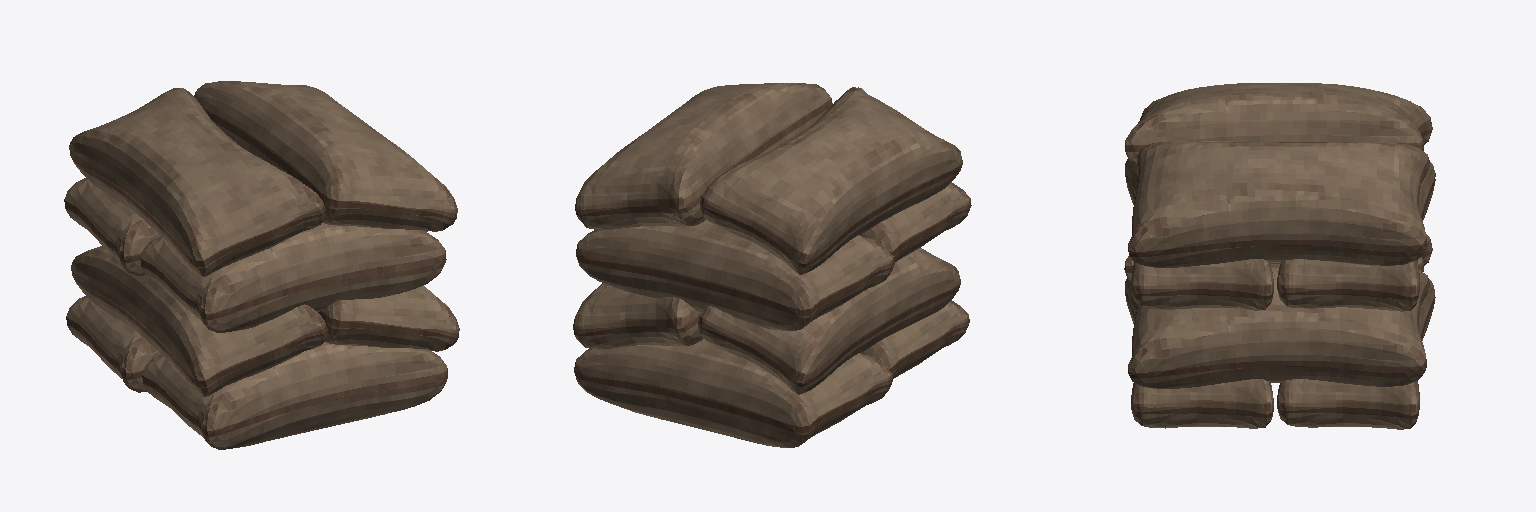
3 views of the same model, side by side, from view 1: azimuth 30°, elevation 25°; view 2: azimuth 150°, elevation 25°; view 3: azimuth 270°, elevation 25° (orthographic).
Parts seen in each view (by area): view 1: bag.006_defaultMaterial.021; view 2: bag.006_defaultMaterial.021; view 3: bag.006_defaultMaterial.021.
Part boxes in pixels (x1,y1,x2,y2): bag.006_defaultMaterial.021: (64,81,459,449); bag.006_defaultMaterial.021: (573,83,971,447); bag.006_defaultMaterial.021: (1124,83,1435,429).
Bounding box in the file's own units: 1.14 × 1.15 × 1.17.
Materials: 8 (1 with a texture image).